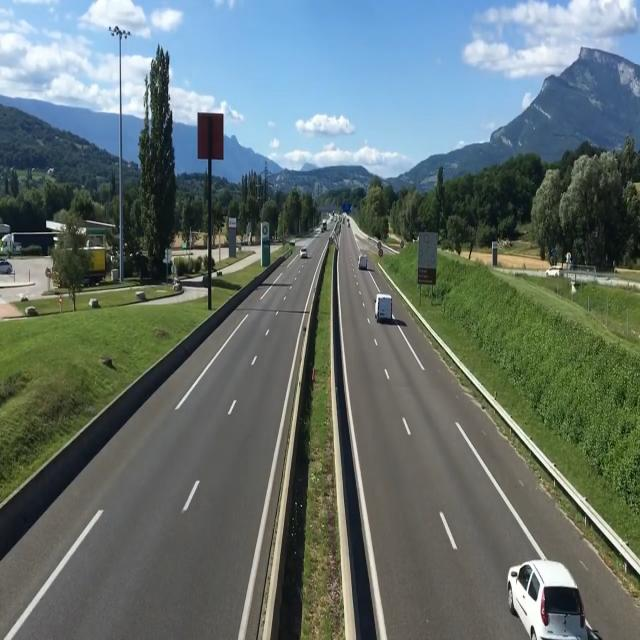car: (507, 565, 598, 640), (374, 292, 398, 330)
